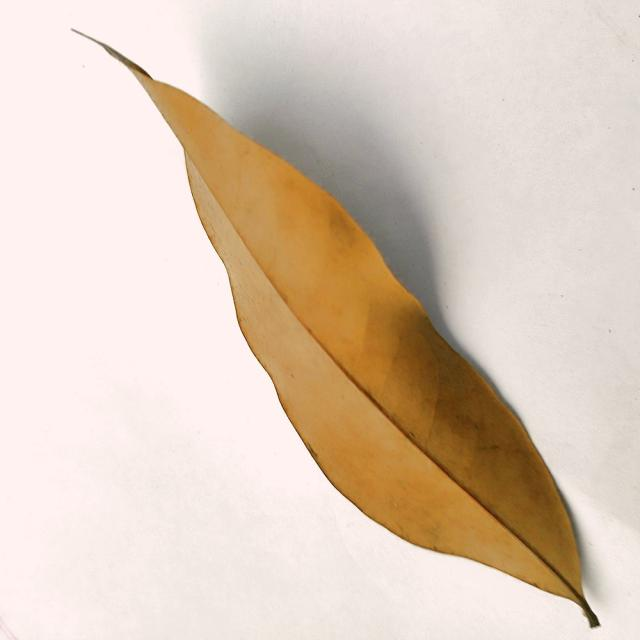Dry_Leaf-Lychee: (88, 38, 600, 627)
